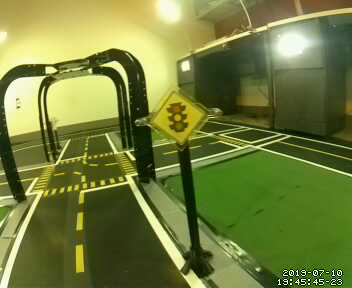Traffic light sign: (152, 88, 205, 146)
